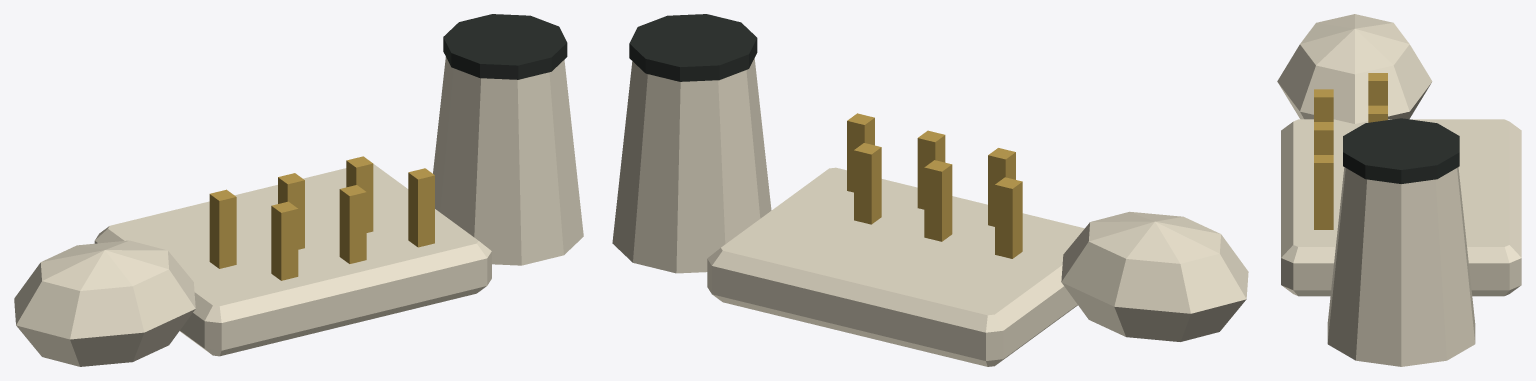
Rendered from snack-litter.glb.
The picture shows the model from 3 angles, left to right: view 1: azimuth 30°, elevation 25°; view 2: azimuth 150°, elevation 25°; view 3: azimuth 270°, elevation 25°; orthographic projection. The views are drawn at different scales.
Visible parts, largest first — view 1: snack-litter; view 2: snack-litter; view 3: snack-litter.
Part boxes in pixels (left/top/right/bottom): snack-litter: left=14, top=14, right=583, bottom=366; snack-litter: left=612, top=14, right=1248, bottom=366; snack-litter: left=1277, top=14, right=1521, bottom=366.
Size of the model in its own units: 0.85 by 0.275 by 0.315.
